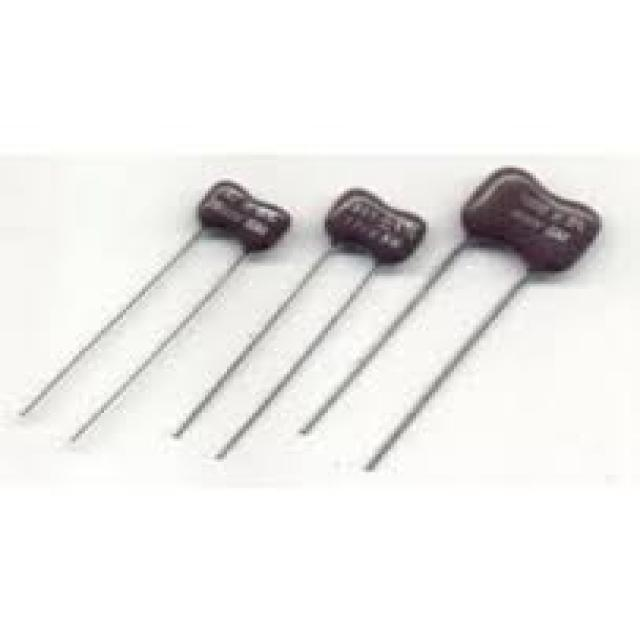Capacitor: (460, 168, 602, 276), (325, 188, 426, 268), (199, 181, 293, 255)
